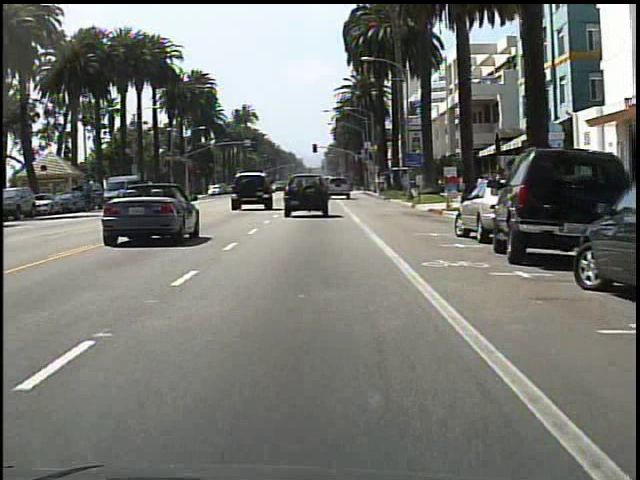person: (83, 178, 98, 213)
